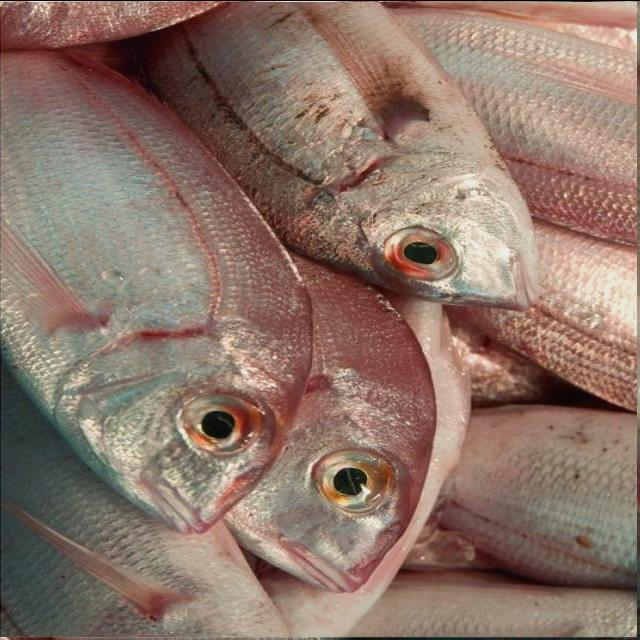Healthy Fish: (1, 0, 637, 637)
